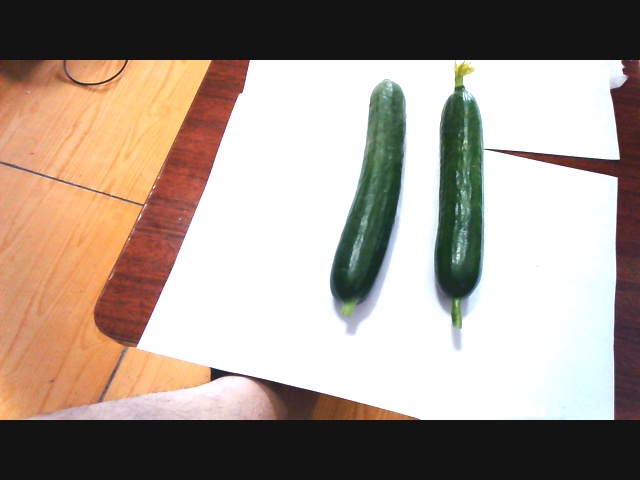cucumber: (421, 68, 496, 337), (328, 68, 403, 320)
